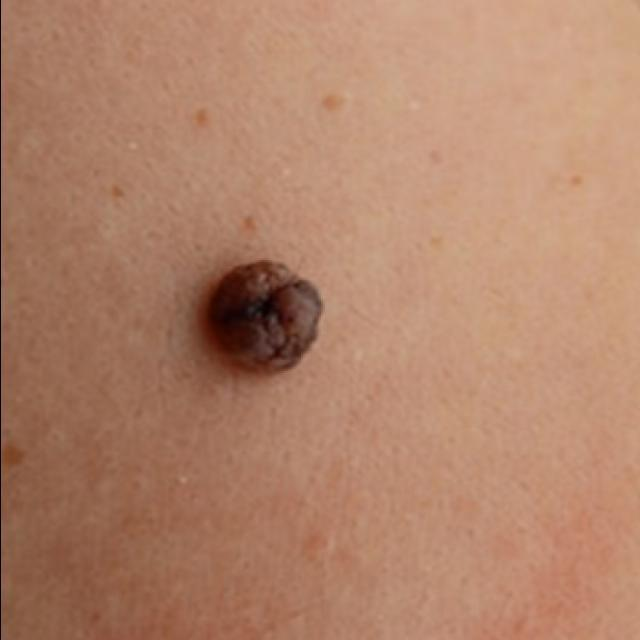wart: (204, 248, 328, 384)
